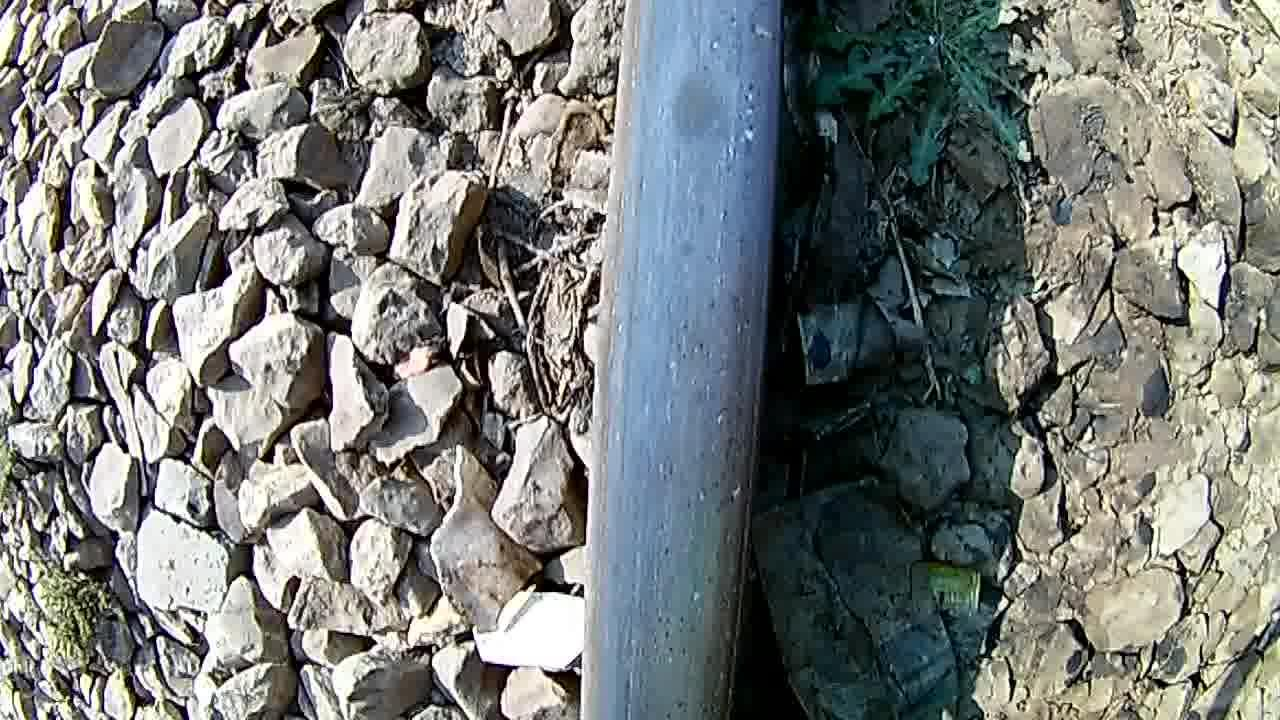bolt_missing: (592, 13, 820, 264)
